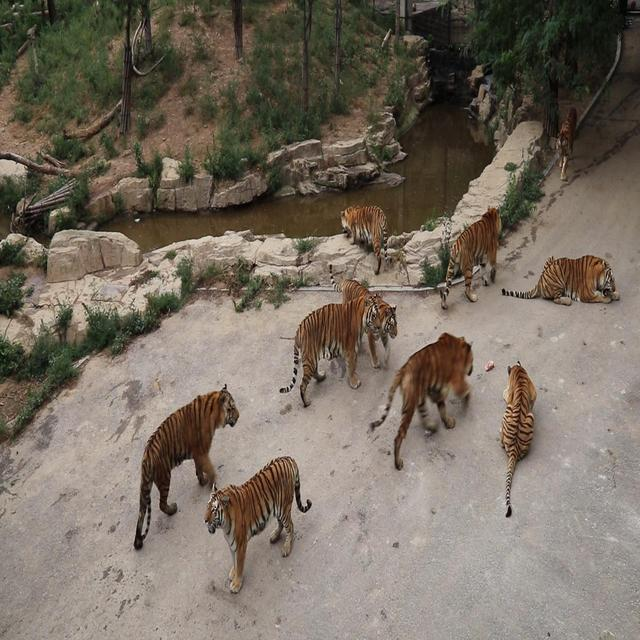tiger: (133, 383, 239, 550), (203, 454, 312, 593), (367, 331, 473, 470), (279, 294, 374, 407), (436, 205, 502, 309), (500, 253, 619, 305), (499, 360, 536, 517), (338, 277, 398, 369), (339, 203, 387, 274), (555, 106, 577, 181)
